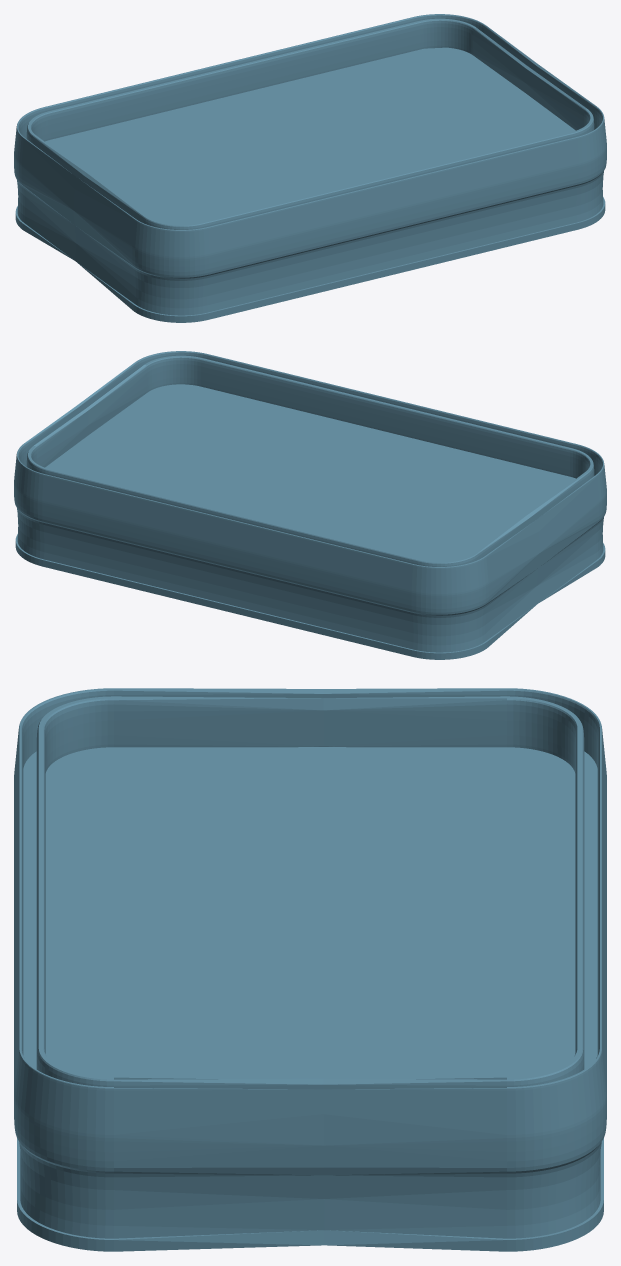
The picture shows the model from 3 angles, top to bottom: view 1: azimuth 30°, elevation 25°; view 2: azimuth 150°, elevation 25°; view 3: azimuth 270°, elevation 25°; orthographic projection. The views are drawn at different scales.
Visible parts, largest first — view 1: Object001, SM_Base002; view 2: Object001, SM_Base002; view 3: SM_Base002, Object001.
Part boxes in pixels (x1,y1,x2,y2): Object001: [14, 14, 606, 322]; SM_Base002: [45, 47, 575, 224]; Object001: [14, 351, 606, 659]; SM_Base002: [45, 384, 575, 561]; SM_Base002: [45, 747, 575, 1079]; Object001: [14, 688, 606, 1251].
Bounding box in the file's own units: 6.32 × 1.19 × 3.92.
